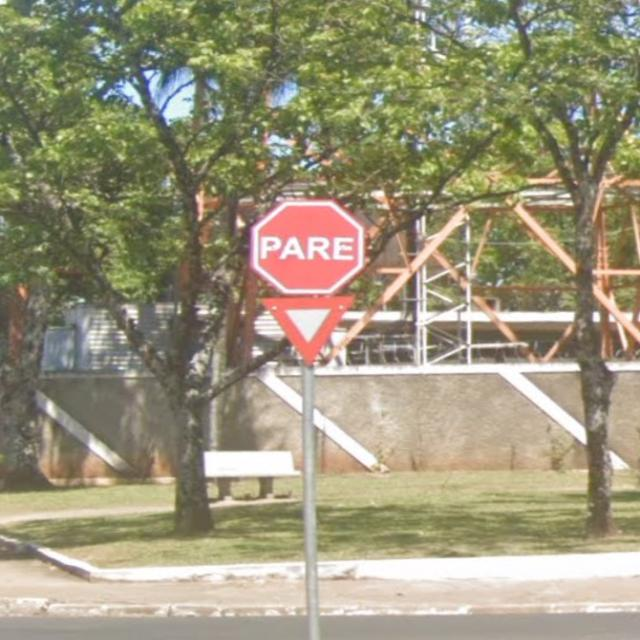stop: (220, 164, 384, 302)
